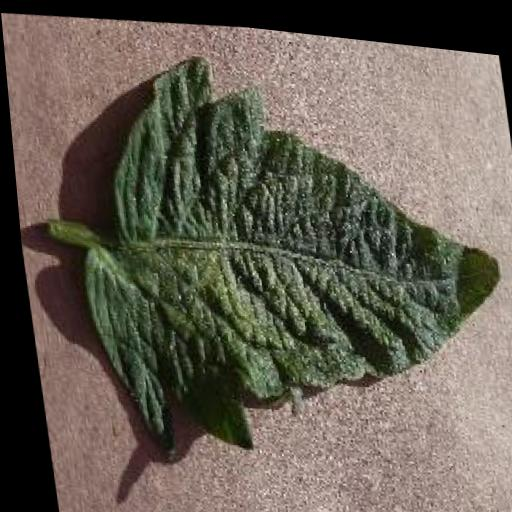Spider Mites: (48, 24, 512, 493)
